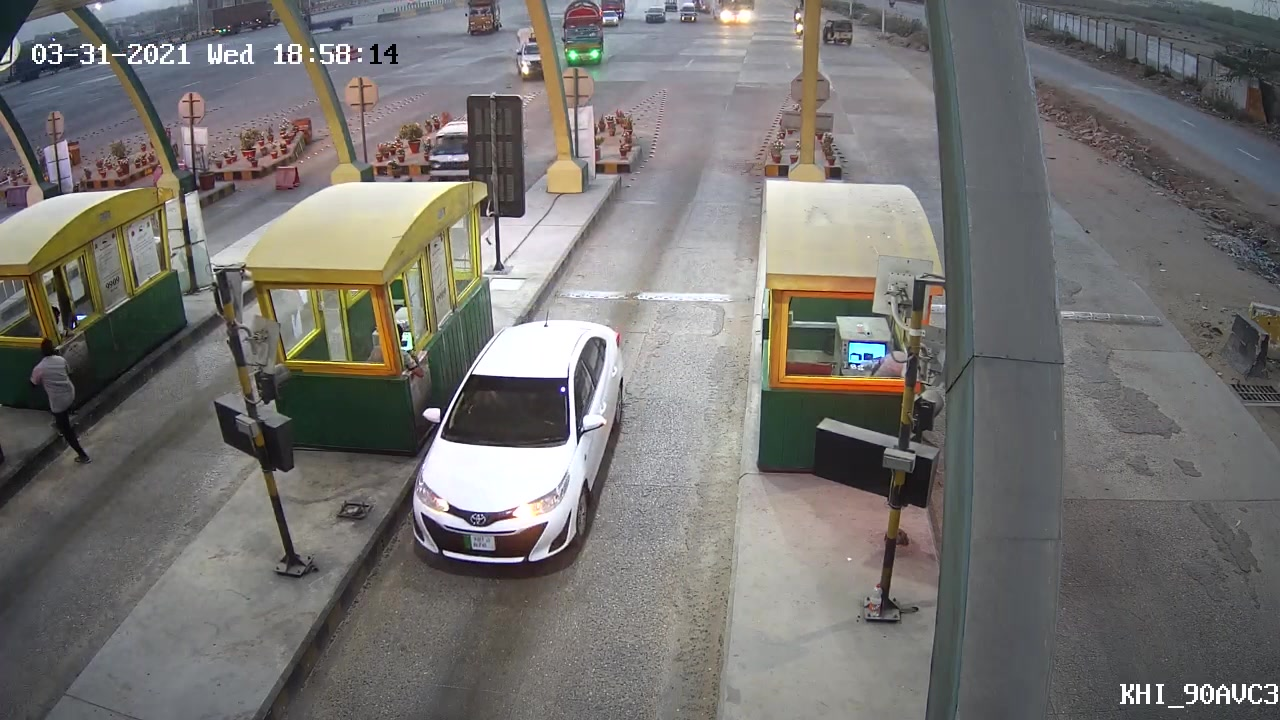F1: (403, 315, 636, 579)
